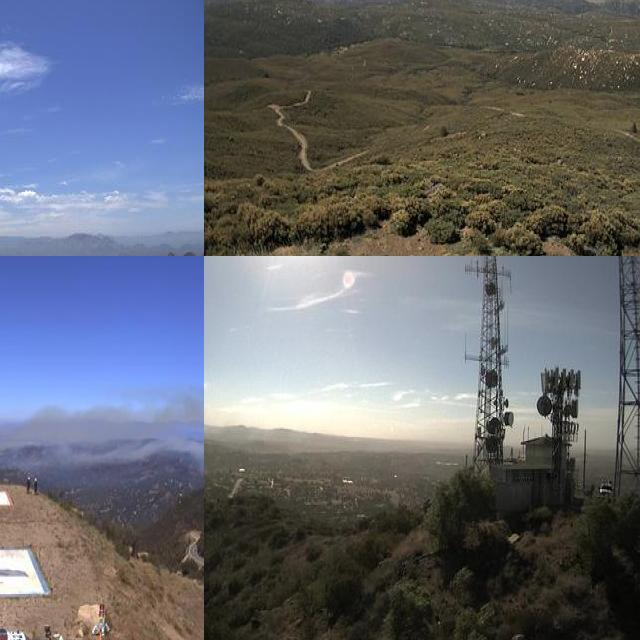smoke: (57, 388, 204, 482)
